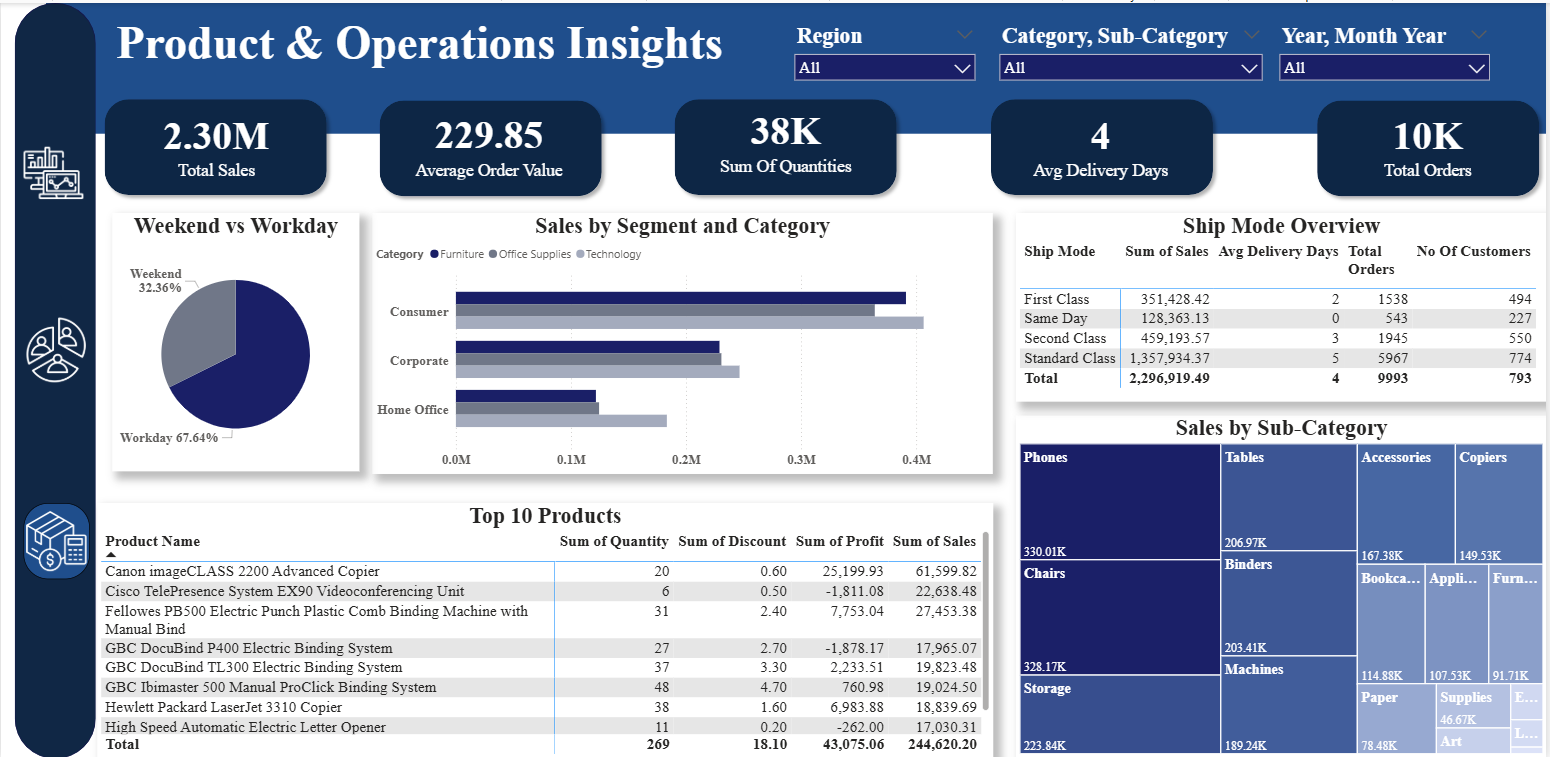

What the dashboard file says about the page in this screenshot:
{"tool":"powerbi","page":{"name":"Product & Operations Insights","canvas":[1881,920],"ordinal":2},"visuals":[{"type":"shape","box":[55.3,0,1826,159.1],"z":0},{"type":"shape","box":[17.3,0,98.6,919.9],"z":1000},{"type":"textbox","box":[134.7,12.5,805.2,87.7],"z":2000},{"type":"shape","box":[117.5,108.1,288.2,134.7],"z":3000},{"type":"image","box":[25.9,374.2,82.1,95.8],"z":4000},{"type":"image","box":[27.4,608.5,80.6,92.8],"z":5000},{"type":"image","box":[10.6,170.4,106.5,73],"z":6000},{"type":"pivotTable","title":"Top 10 Products","fields":{"Rows":["Sample - Superstore.Product Name"],"Values":["Sum(Sample - Superstore.Quantity)","Sum(Sample - Superstore.Discount)","Sum(Sample - Superstore.Profit)","Sum(Sample - Superstore.Sales)"]},"box":[117.1,608.5,1090.7,310.3],"z":7000},{"type":"clusteredBarChart","title":"Sales by Segment and Category","fields":{"Category":["Sample - Superstore.Segment"],"Y":["Sum(Sample - Superstore.Sales)"],"Series":["Sample - Superstore.Category"]},"box":[451.1,256.3,755.3,317.8],"z":8000},{"type":"pieChart","title":"Weekend vs Workday","fields":{"Category":["Calendar.Day Type"],"Y":["Sum(Sample - Superstore.Sales)"]},"box":[135,256.3,300.7,314.4],"z":9000},{"type":"treemap","title":"Sales by Sub-Category","fields":{"Group":["Sample - Superstore.Sub-Category"],"Values":["Sum(Sample - Superstore.Sales)"]},"box":[1235.2,502,646.5,416.8],"z":10000},{"type":"pivotTable","title":"Ship Mode Overview","fields":{"Rows":["Sample - Superstore.Ship Mode"],"Values":["Sum(Sample - Superstore.Sales)","Key Measure.Avg Delivery Days","Key Measure.Total Orders","Key Measure.No Of Customers"]},"box":[1235.2,255.6,646.5,229.7],"z":11000},{"type":"shape","box":[451.1,109.7,288.2,134.7],"z":12000},{"type":"shape","box":[1195.2,108.1,288.2,134.7],"z":13000},{"type":"shape","box":[1593.1,109.7,288.2,134.7],"z":14000},{"type":"shape","box":[811.4,108.1,288.2,134.7],"z":15000},{"type":"cardVisual","fields":{"Data":["Key Measure.Total Sales"]},"box":[153.4,123,217.6,107],"z":16000},{"type":"cardVisual","fields":{"Data":["Key Measure.Average Order Value"]},"box":[458.3,119.5,272.8,112.3],"z":17000},{"type":"cardVisual","fields":{"Data":["Key Measure.Sum Of Quantities"]},"box":[831,115.9,249.7,110.6],"z":18000},{"type":"cardVisual","fields":{"Data":["Key Measure.Avg Delivery Days"]},"box":[1205.5,110.6,267.5,130.2],"z":19000},{"type":"cardVisual","fields":{"Data":["Key Measure.Total Orders"]},"box":[1601.4,110.6,269.3,130.2],"z":20000},{"type":"slicer","fields":{"Values":["Sample - Superstore.Region"]},"box":[955.8,19.6,240.7,76.7],"z":21000},{"type":"slicer","fields":{"Values":["Sample - Superstore.Category","Sample - Superstore.Sub-Category"]},"box":[1205.5,19.6,340.6,94.5],"z":22000},{"type":"slicer","fields":{"Values":["Calendar.Year","Calendar.Month Year"]},"box":[1546.1,19.6,276.4,76.7],"z":23000}]}

Visuals, with their boxes in screenshot pixels (x1, y1, x2, y2), scaled from the page's 1881x920 canvas onto the 1550x757 screenshot:
shape: locate(46, 0, 1549, 131)
shape: locate(14, 0, 96, 756)
textbox: locate(111, 10, 775, 82)
shape: locate(97, 89, 334, 200)
image: locate(21, 308, 89, 387)
image: locate(23, 501, 89, 577)
image: locate(9, 140, 96, 200)
"Top 10 Products" pivotTable: locate(96, 501, 995, 756)
"Sales by Segment and Category" clusteredBarChart: locate(372, 211, 994, 472)
"Weekend vs Workday" pieChart: locate(111, 211, 359, 470)
"Sales by Sub-Category" treemap: locate(1018, 413, 1549, 756)
"Ship Mode Overview" pivotTable: locate(1018, 210, 1549, 399)
shape: locate(372, 90, 609, 201)
shape: locate(985, 89, 1222, 200)
shape: locate(1313, 90, 1549, 201)
shape: locate(669, 89, 906, 200)
cardVisual - Key Measure.Total Sales: locate(126, 101, 306, 189)
cardVisual - Key Measure.Average Order Value: locate(378, 98, 602, 191)
cardVisual - Key Measure.Sum Of Quantities: locate(685, 95, 891, 186)
cardVisual - Key Measure.Avg Delivery Days: locate(993, 91, 1214, 198)
cardVisual - Key Measure.Total Orders: locate(1320, 91, 1542, 198)
slicer - Sample - Superstore.Region: locate(788, 16, 986, 79)
slicer - Sample - Superstore.Category x Sample - Superstore.Sub-Category: locate(993, 16, 1274, 94)
slicer - Calendar.Year x Calendar.Month Year: locate(1274, 16, 1502, 79)
